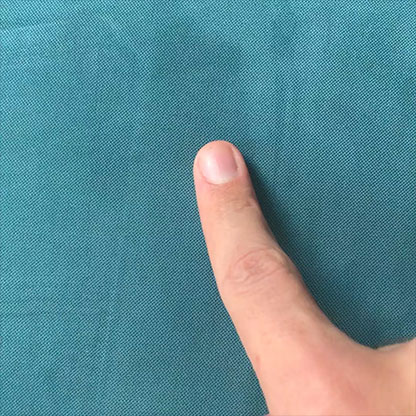fingertip: (183, 130, 260, 203)
